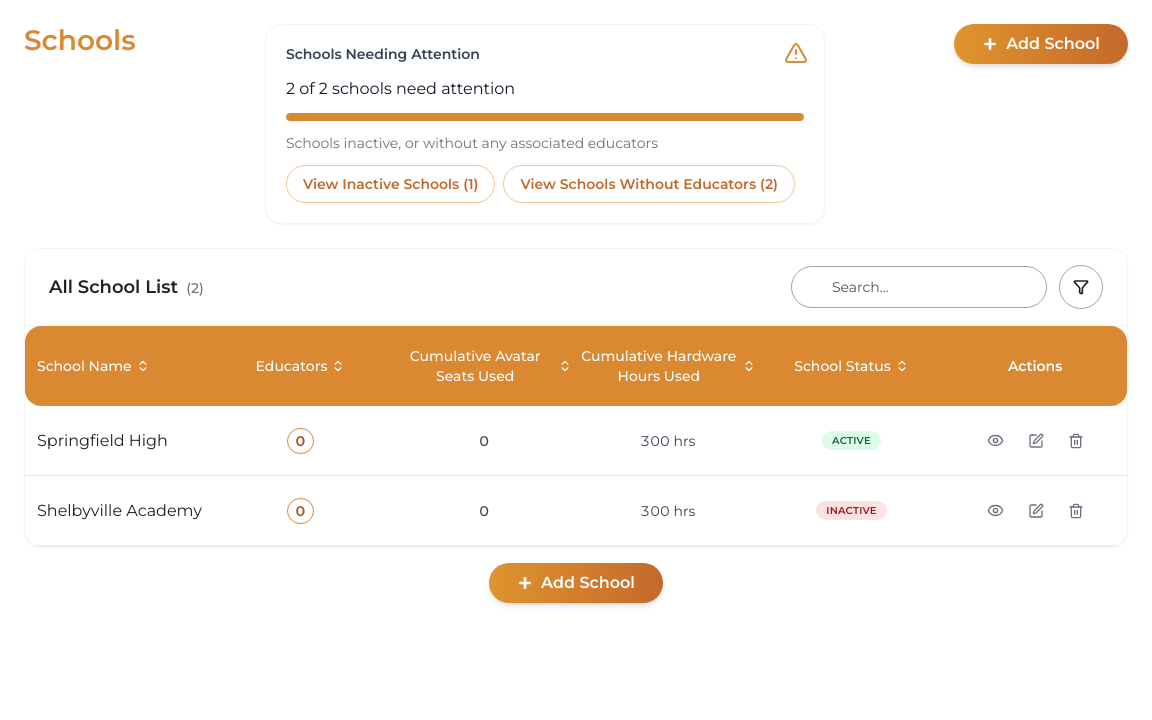
Edit School › shows required error when school_name is cleared and blurred
Click the button with class "lucide-square-pen": (1036, 440) [1022,426,1050,454]
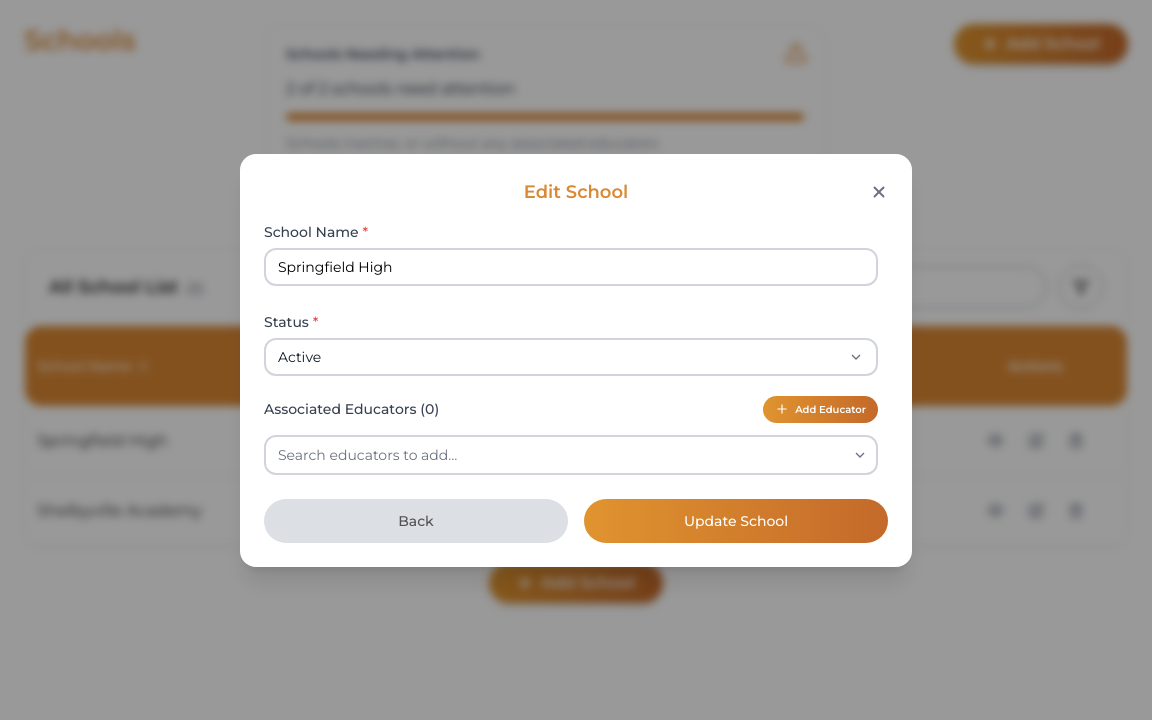
Clear the field showing "Springfield High": (571, 266) [264,248,878,286]
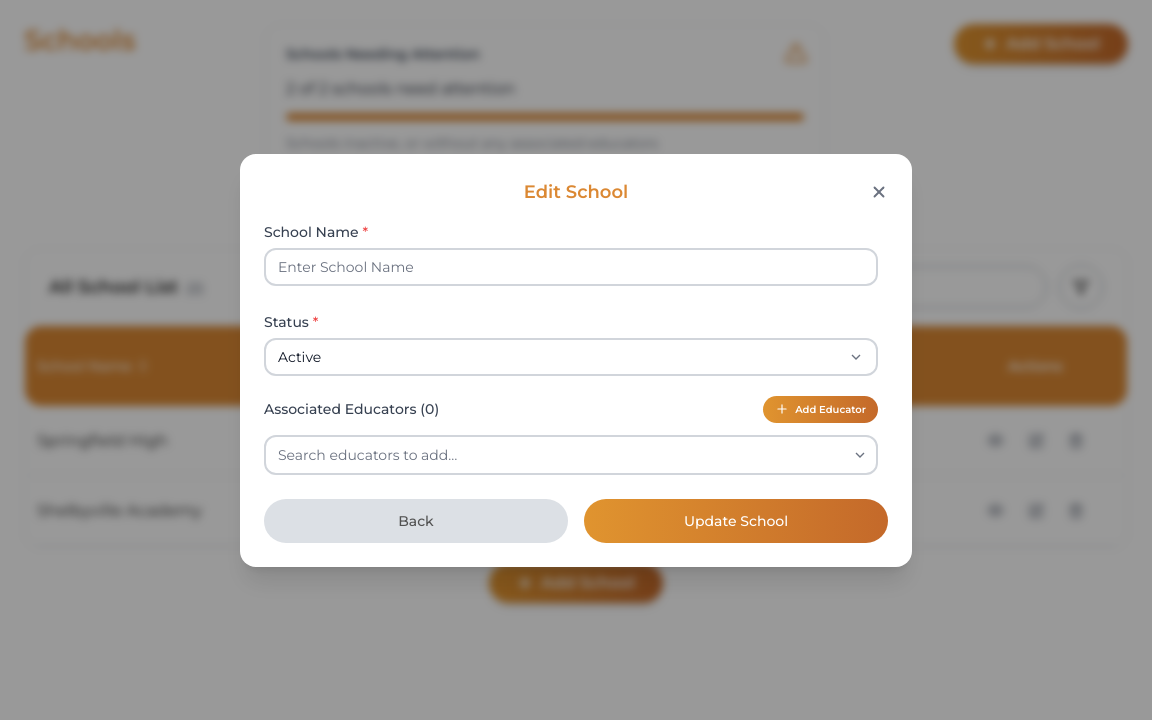
Leave the field showing "Springfield High", box [264,248,878,286]
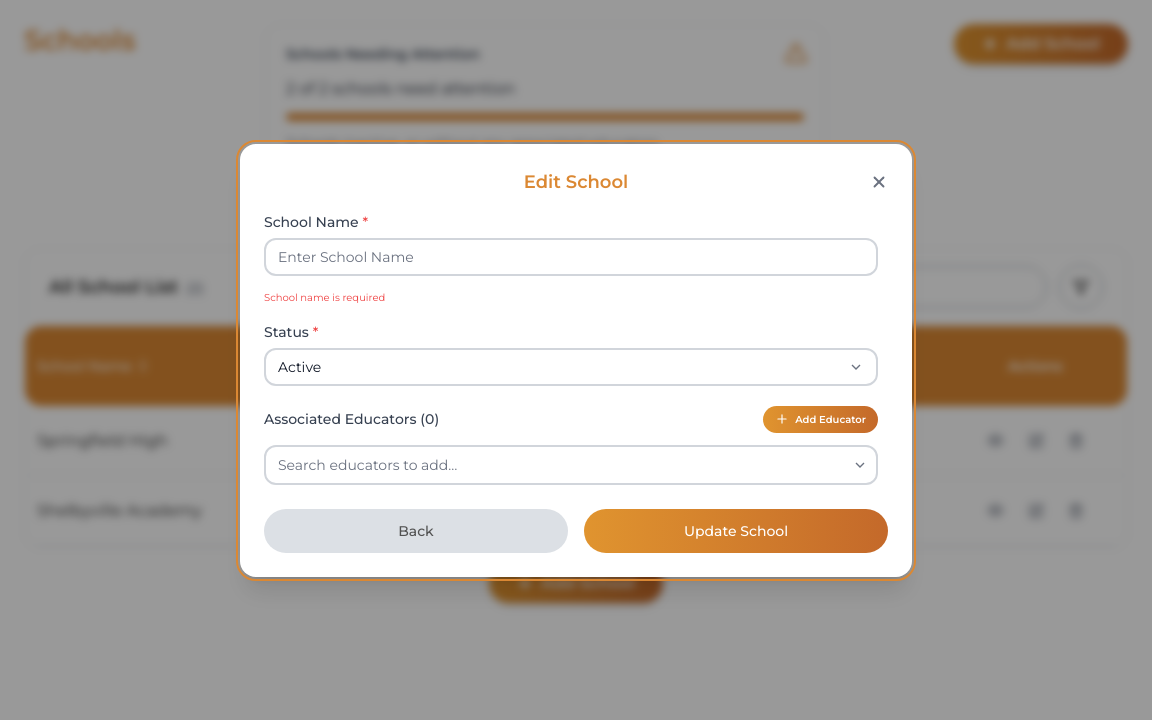
Check: the text "School name is required" is shown, box [264,290,385,304]
